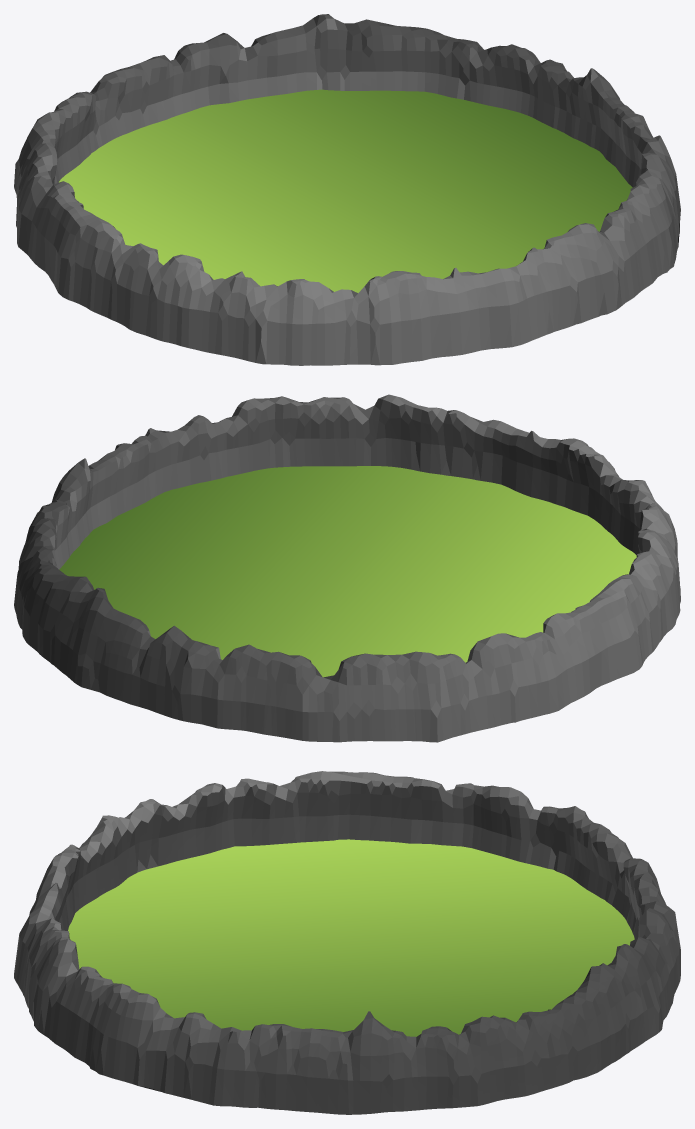
Rendered from island.fbx.
The picture shows the model from 3 angles, top to bottom: view 1: azimuth 30°, elevation 25°; view 2: azimuth 150°, elevation 25°; view 3: azimuth 270°, elevation 25°; orthographic projection.
Visible parts, largest first — view 1: Cube.005; view 2: Cube.005; view 3: Cube.005.
Boxes of the visible parts, box(x1,y1,x2,y2) form: Cube.005: box(14, 14, 680, 365); Cube.005: box(14, 394, 680, 742); Cube.005: box(14, 771, 680, 1114).
Size of the model in its own units: 2884 by 420 by 2885.
1 material, 1 textured.
